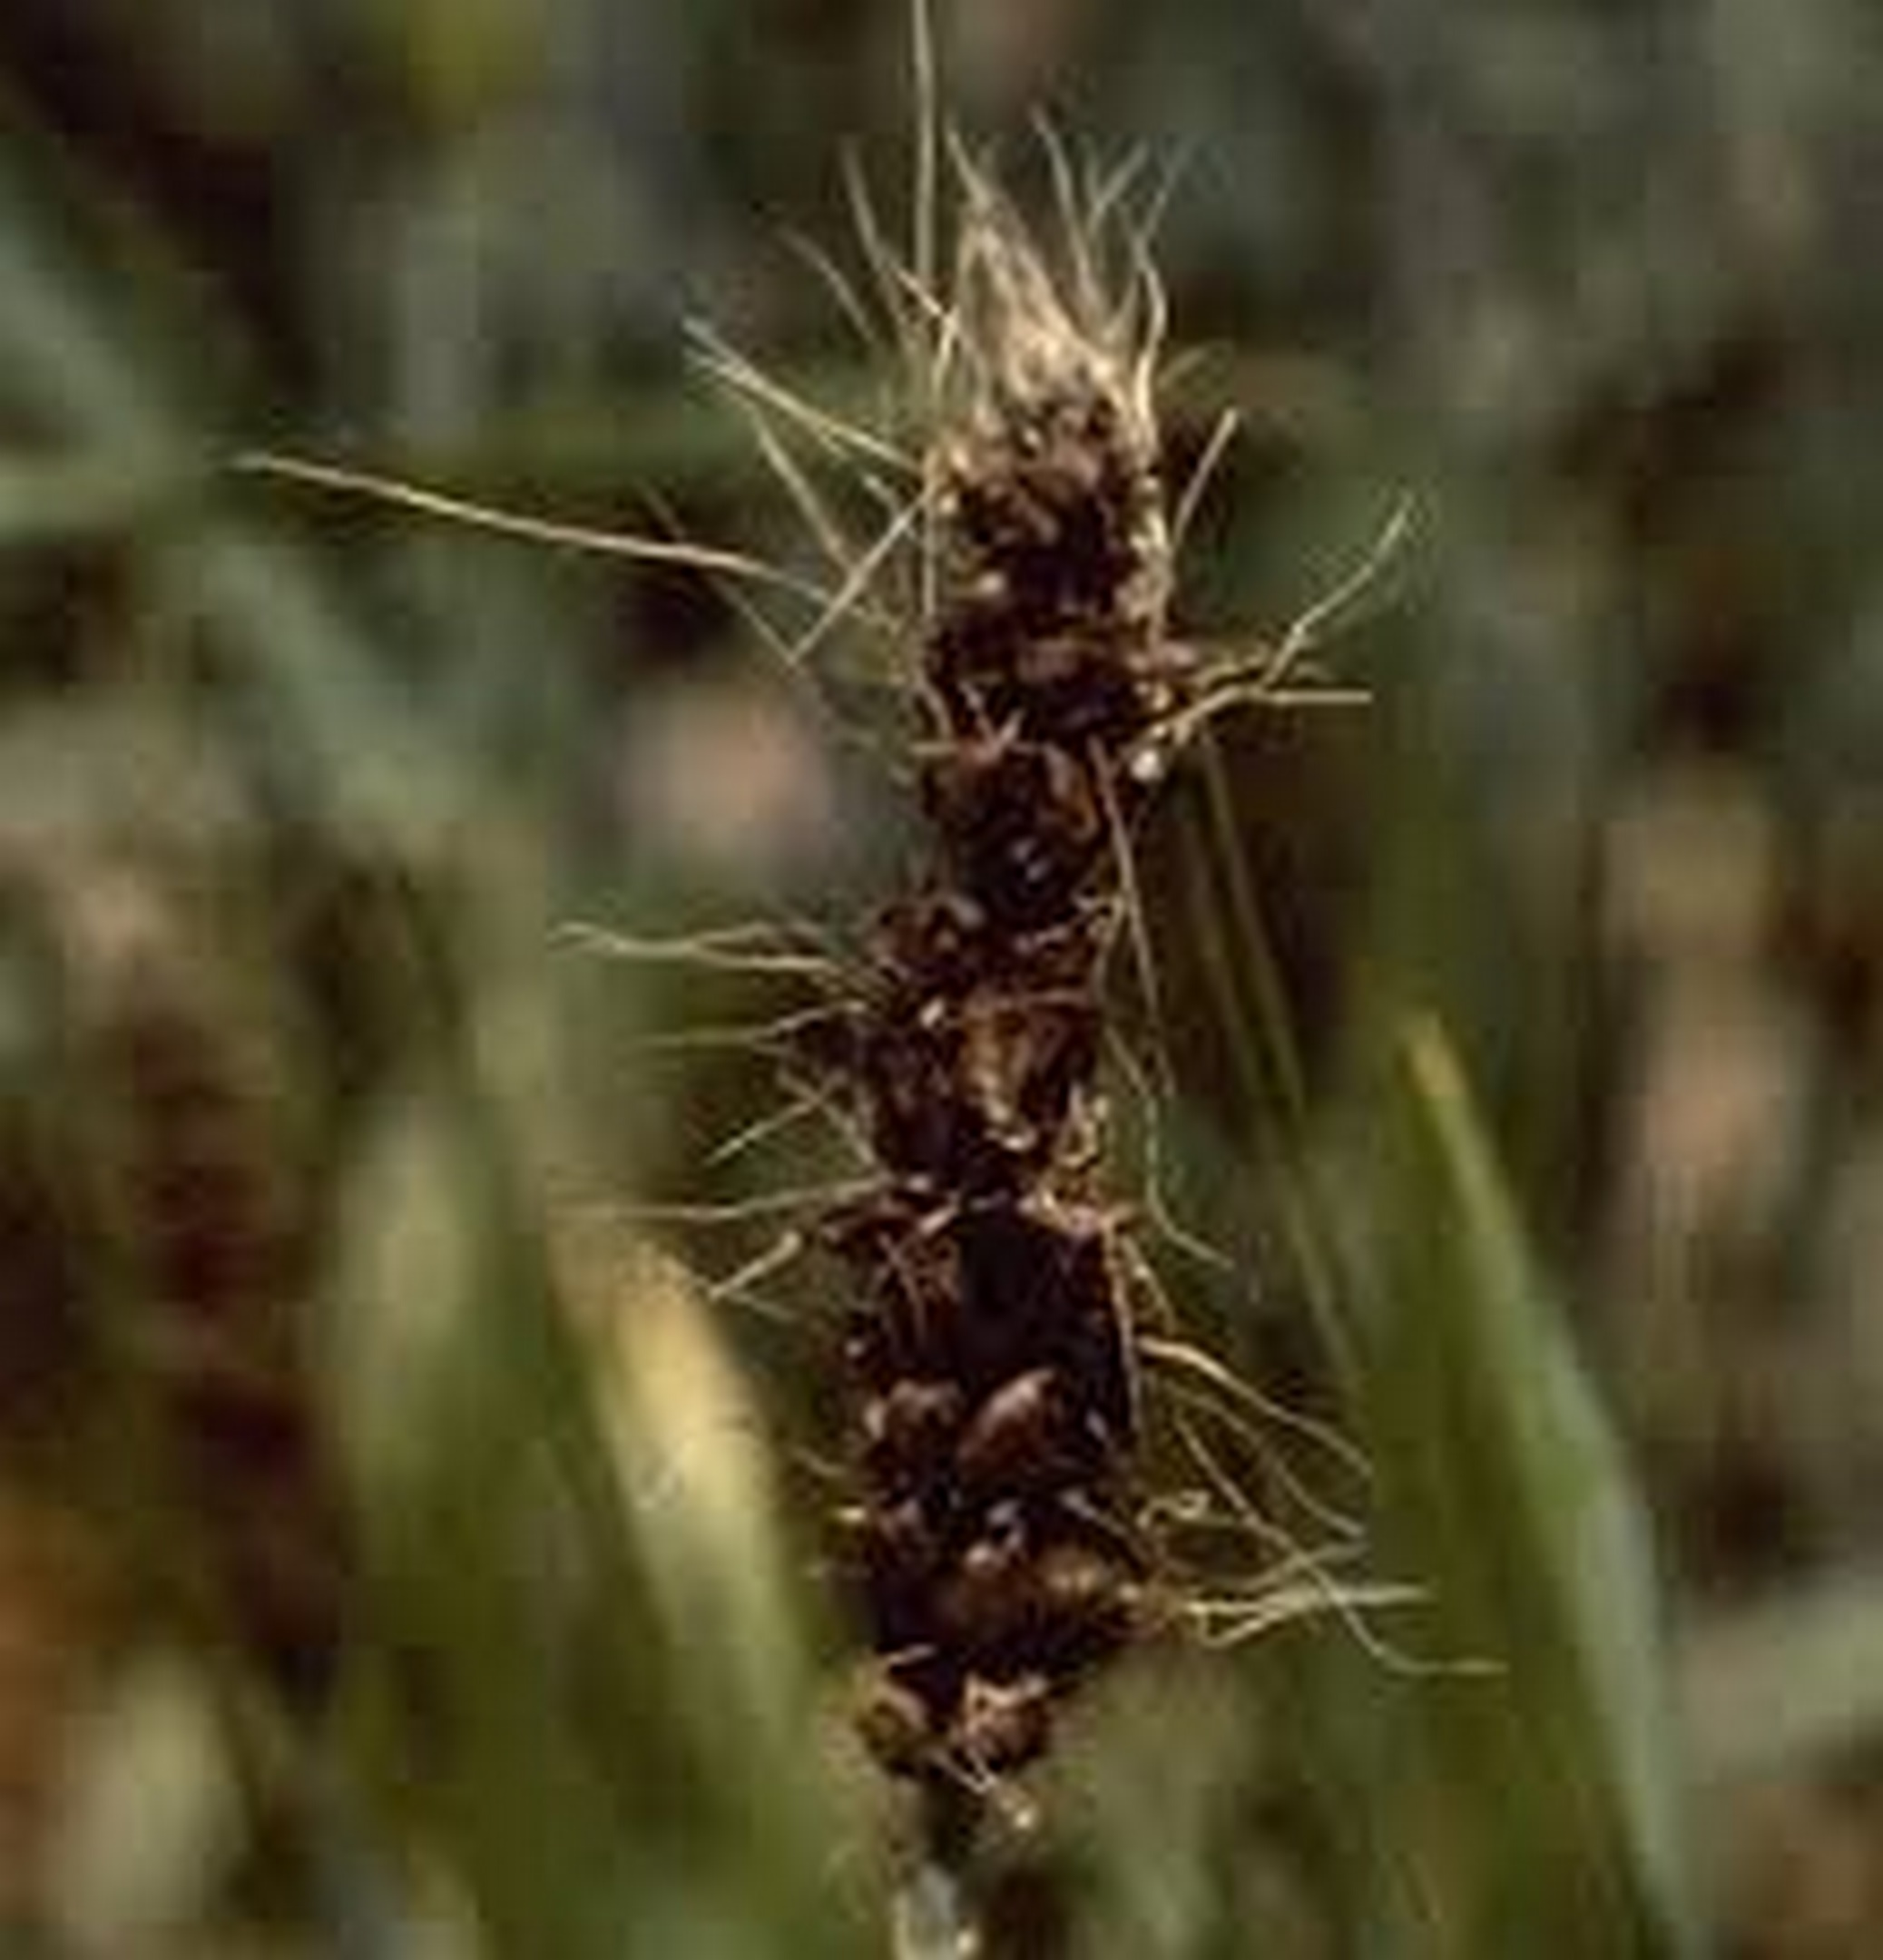Wheat Loose Smut: (773, 255, 1267, 1792)
